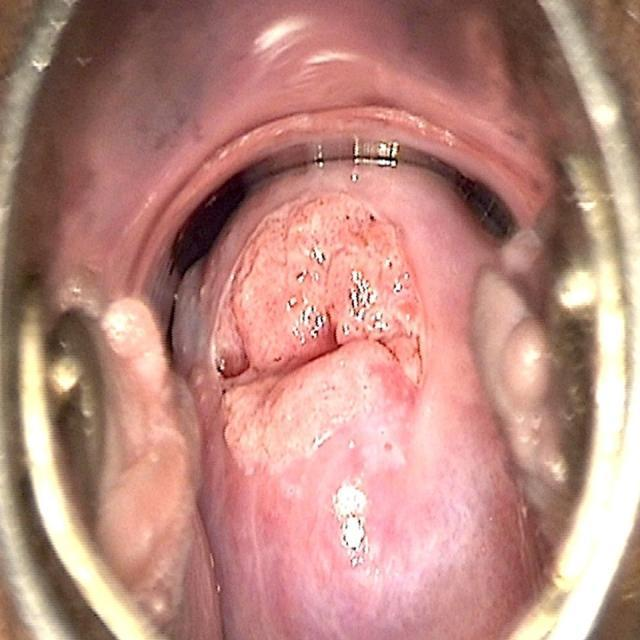cervical_lesion: (197, 153, 445, 636)
